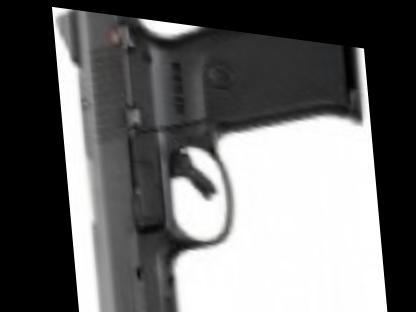pistol: (52, 5, 379, 311)
